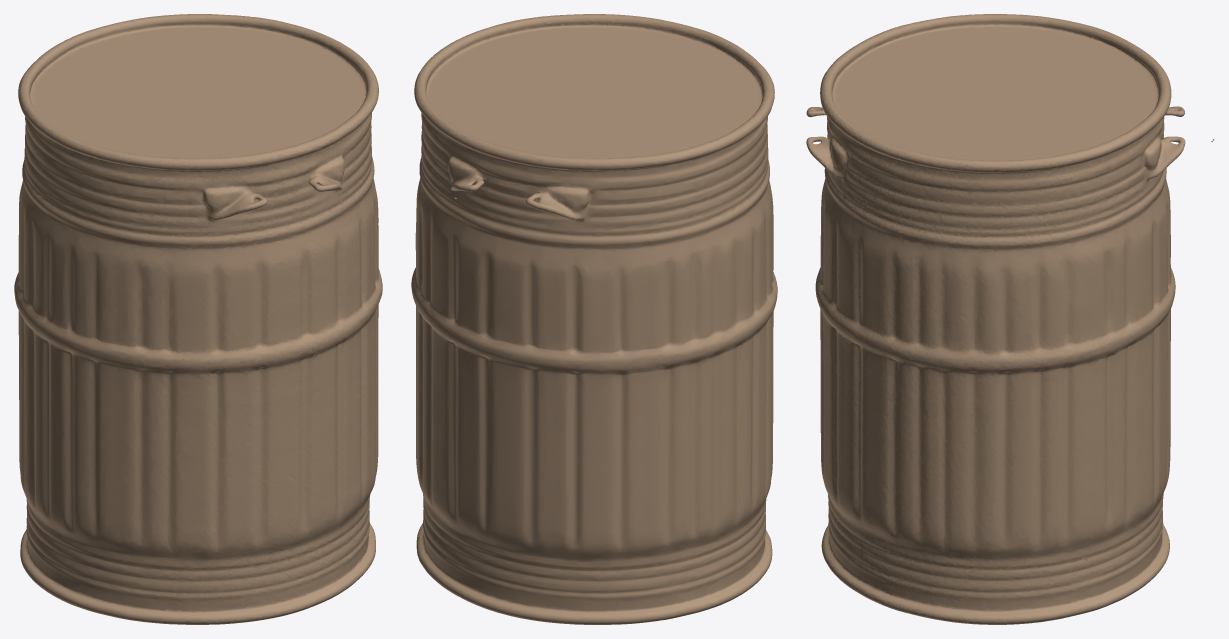
The model's file is barrel.glb.
3 renders of one model, left to right at view 1: azimuth 30°, elevation 25°; view 2: azimuth 150°, elevation 25°; view 3: azimuth 270°, elevation 25°, orthographic.
Parts seen in each view (by area): view 1: world; view 2: world; view 3: world.
Part boxes in pixels (x1=…): world: x1=14, y1=14, x2=382, y2=624; world: x1=411, y1=14, x2=777, y2=624; world: x1=806, y1=14, x2=1214, y2=624.
Bounding box in the file's own units: 1.44 × 1.99 × 1.59.
